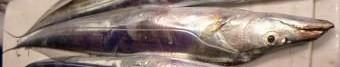fish: (19, 5, 333, 66)
